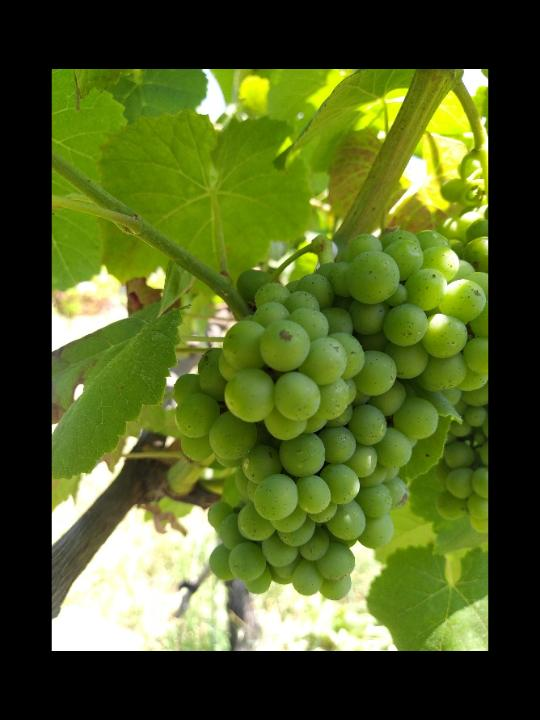grape: (170, 227, 486, 602)
